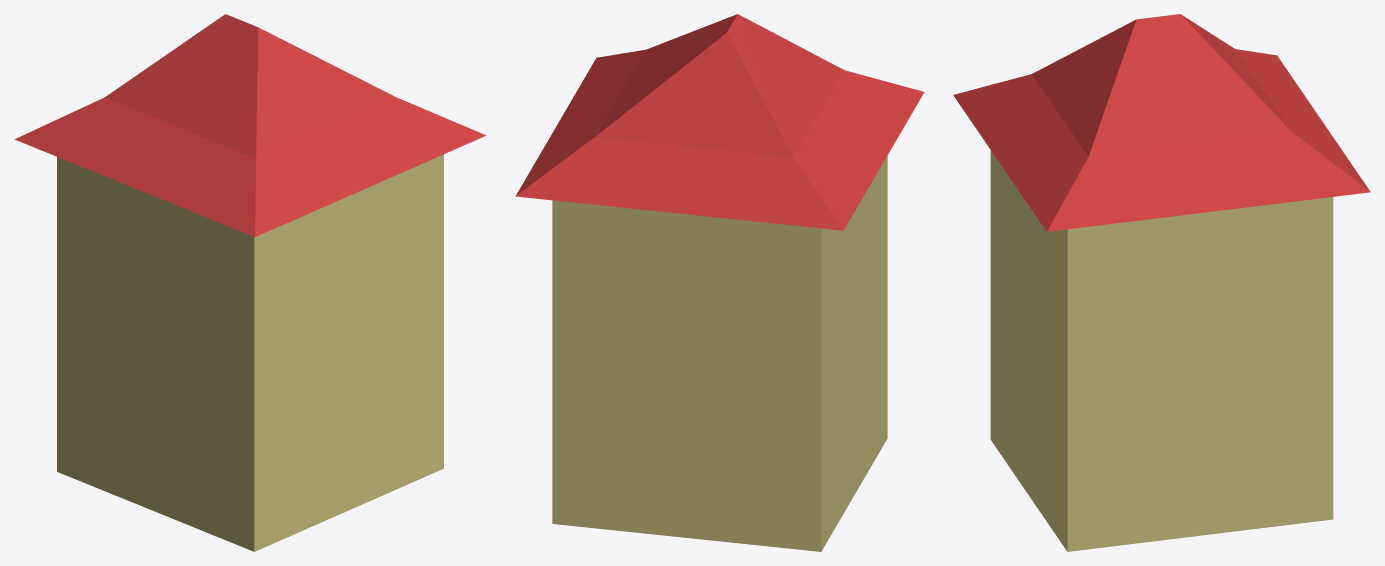
3 renders of one model, left to right at view 1: azimuth 30°, elevation 25°; view 2: azimuth 150°, elevation 25°; view 3: azimuth 270°, elevation 25°, orthographic.
Size of the model in its own units: 10.31 by 10.31 by 12.46.
